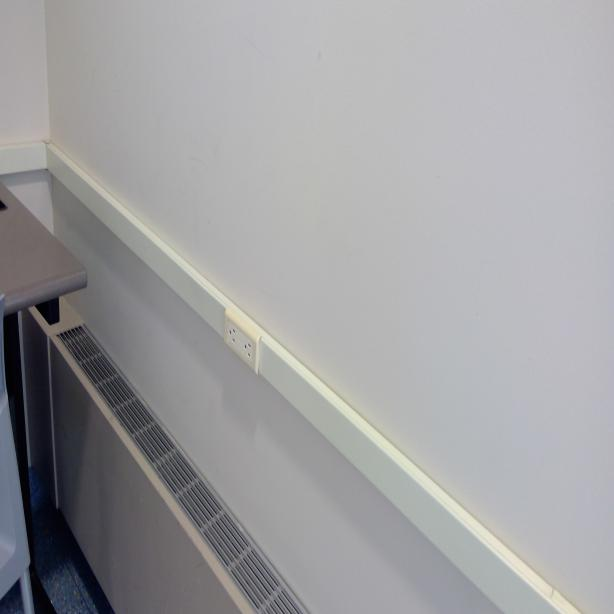typeb: (227, 322, 238, 346), (242, 338, 253, 359)
